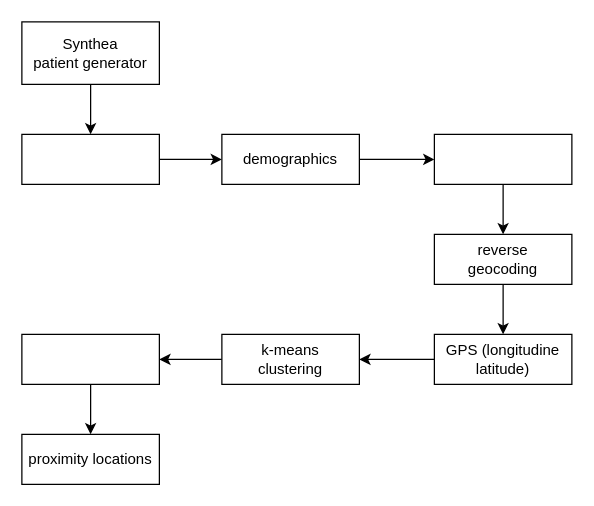
Image size: 594x506. Some labels were removed from this diagram. Each missing label, with the box of its shape:
address: (433, 133, 572, 184)
centroids longitude, latitude: (21, 333, 159, 384)
population: (21, 133, 159, 184)
